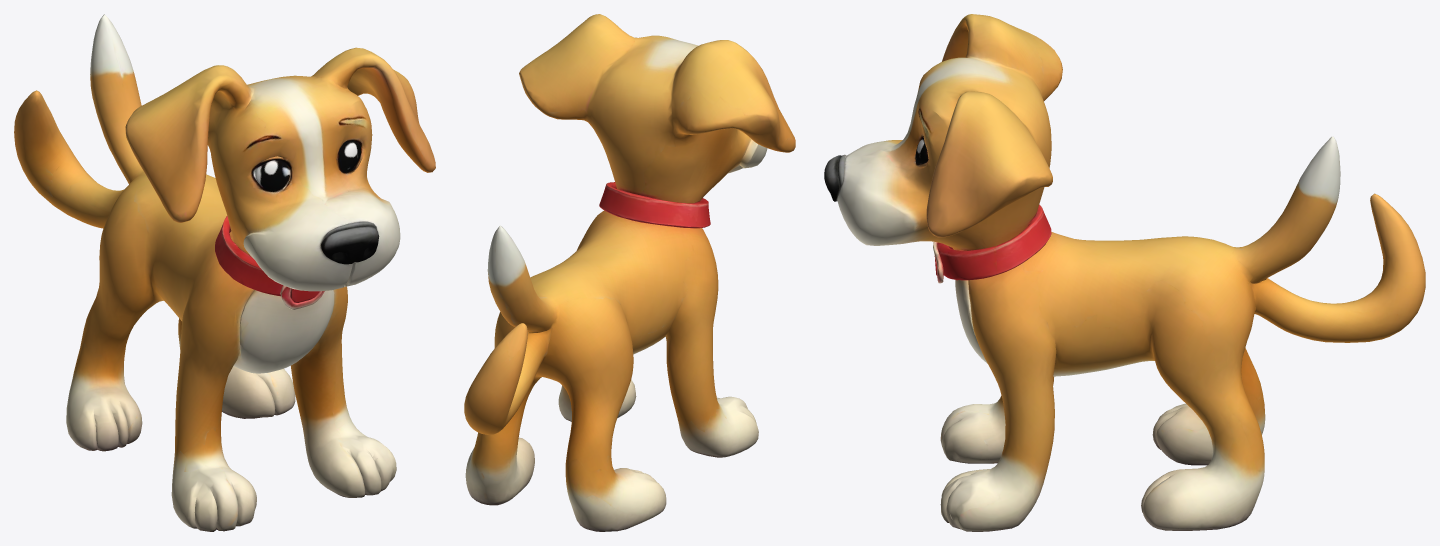
Rendered from dog.glb.
3 views of the same model, side by side, from view 1: azimuth 30°, elevation 25°; view 2: azimuth 150°, elevation 25°; view 3: azimuth 270°, elevation 25° (orthographic). The views are drawn at different scales.
Visible parts, largest first — view 1: model; view 2: model; view 3: model.
Boxes of the visible parts, <box> form: model: <box>14,14,435,531</box>; model: <box>464,14,795,531</box>; model: <box>824,14,1425,531</box>.
Bounding box in the file's own units: 1.01 × 1.52 × 1.9.
Materials: 1 (1 with a texture image).
